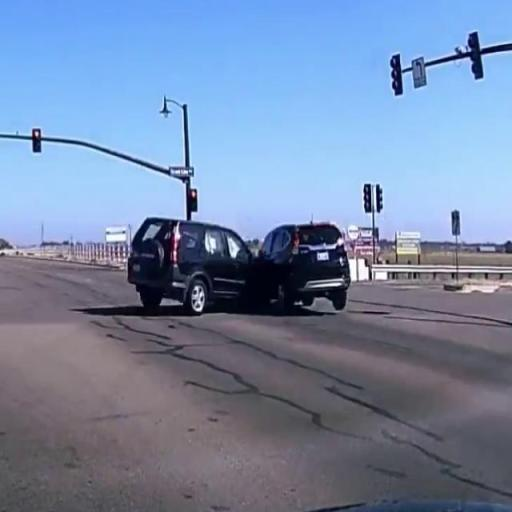小汽车撞小汽车: (127, 216, 351, 318)
